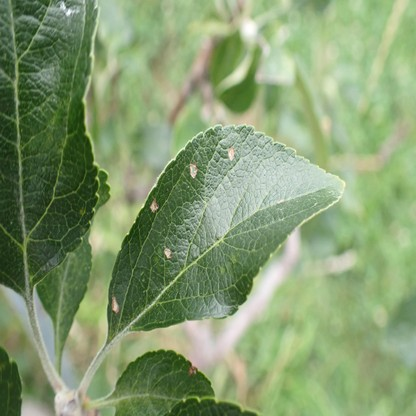frogeye_leaf_spot: (111, 296, 119, 314), (150, 197, 159, 212), (190, 163, 197, 178), (189, 364, 197, 376), (164, 246, 171, 259), (228, 147, 234, 161)
